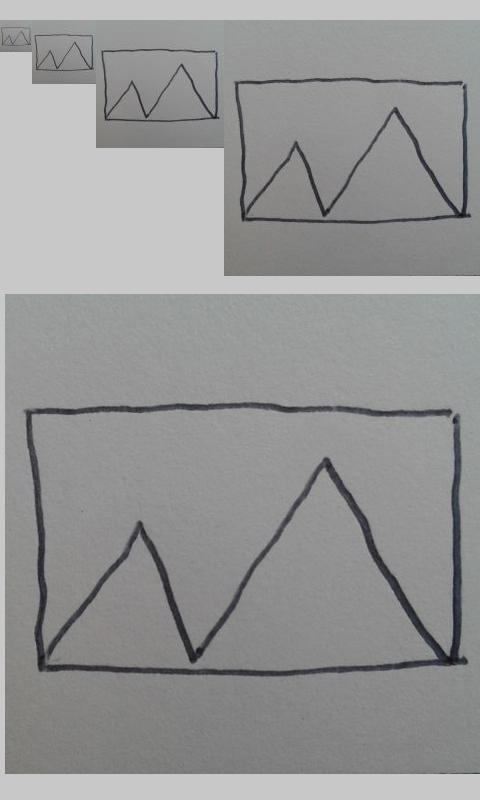image_view: (22, 402, 461, 681), (233, 76, 468, 226), (101, 48, 218, 123), (34, 33, 94, 72), (1, 26, 31, 47)
